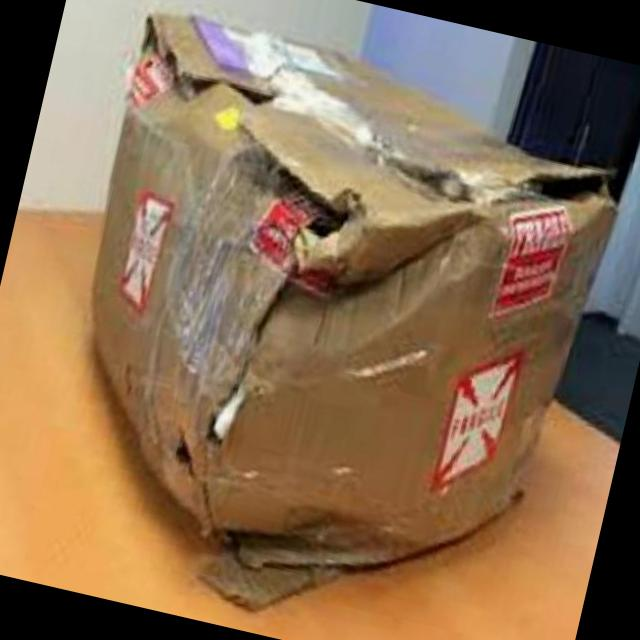box: (111, 85, 513, 531)
